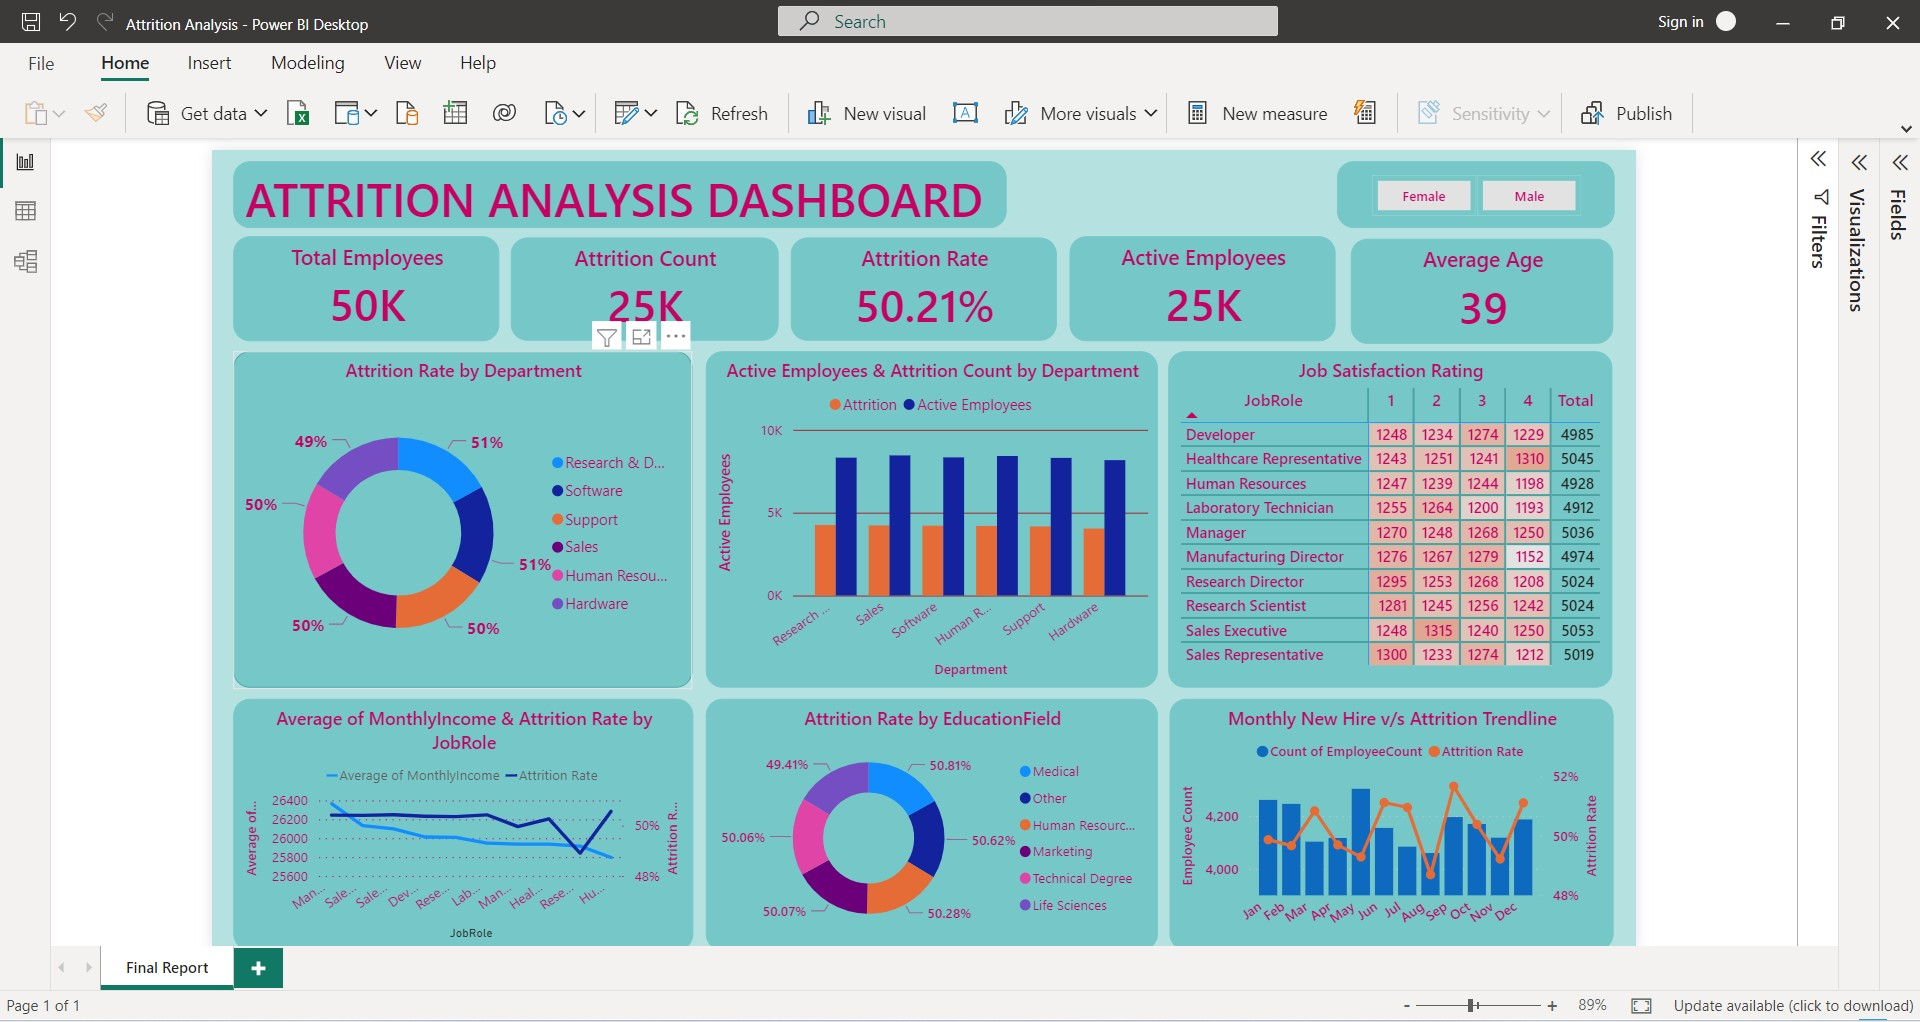

The dashboard page shown, as its layout file describes it:
{"tool":"powerbi","page":{"name":"Final Report","canvas":[1280,720],"ordinal":0},"visuals":[{"type":"card","title":"Total Employees","fields":{"Values":["Sum(HR_1.EmployeeCount)"]},"box":[18.6,77.9,239.5,94.2],"z":0},{"type":"card","title":"Attrition Count","fields":{"Values":["Sum(HR_1.Count of Attrition)"]},"box":[268.6,79.1,240.7,93],"z":1000},{"type":"card","title":"Attrition Rate","fields":{"Values":["HR_1.Attrition Rate"]},"box":[519.8,79.1,239.5,93],"z":2000},{"type":"card","title":"Active Employees","fields":{"Values":["HR_1.Active Employees"]},"box":[770.9,77.9,239.5,94.2],"z":3000},{"type":"card","title":"Average Age","fields":{"Values":["Avg(HR_1.Age)"]},"box":[1023.9,79.6,236.4,94.1],"z":4000},{"type":"donutChart","fields":{"Category":["HR_1.Department"],"Y":["HR_1.Attrition Rate"]},"box":[18.8,181.2,412.5,302.5],"z":5000},{"type":"clusteredColumnChart","title":"Active Employees & Attrition Count by Department","fields":{"Y":["Sum(HR_1.Count of Attrition)","CountNonNull(HR_1.EmployeeCount)"],"Category":["HR_1.Department"]},"box":[443.8,180.9,406.4,302.7],"z":6000},{"type":"pivotTable","title":"Job Satisfaction Rating","fields":{"Rows":["HR_1.JobRole"],"Columns":["HR_1.JobSatisfaction"],"Values":["CountNonNull(HR_1.EmployeeCount)"]},"box":[861.3,181.4,398.4,302.7],"z":7000},{"type":"lineChart","title":"Average of MonthlyIncome & Attrition Rate by JobRole","fields":{"Category":["HR_1.JobRole"],"Y2":["HR_1.Attrition Rate"],"Y":["Avg(HR_2.MonthlyIncome)"]},"box":[18.8,493.8,413.8,226.2],"z":8000},{"type":"donutChart","fields":{"Category":["HR_1.EducationField"],"Y":["HR_1.Attrition Rate"]},"box":[443.8,493.3,406.4,226.7],"z":9000},{"type":"lineClusteredColumnComboChart","title":"Monthly New Hire v/s Attrition Trendline","fields":{"Y":["CountNonNull(HR_1.EmployeeCount)"],"Y2":["HR_1.Attrition Rate"],"Category":["HR_2.Month Name"]},"box":[861.1,493.3,399.2,226.7],"z":10000},{"type":"textbox","title":"ATTRITION ANALYSIS DASHBOARD","box":[18.9,10,695.5,60.1],"z":11000},{"type":"slicer","fields":{"Values":["HR_1.Gender"]},"box":[1011.6,10,249.3,60.1],"z":12000}]}

Visuals, with their boxes on the page's 1280x720 design canvas (x1, y1, x2, y2). These are canvas units, not pixel positions in the 1920x1022 screenshot, which may show the page scaled, cropped or inside an application window:
"Total Employees" card: (left=19, top=78, right=258, bottom=172)
"Attrition Count" card: (left=269, top=79, right=509, bottom=172)
"Attrition Rate" card: (left=520, top=79, right=759, bottom=172)
"Active Employees" card: (left=771, top=78, right=1010, bottom=172)
"Average Age" card: (left=1024, top=80, right=1260, bottom=174)
donutChart - HR_1.Department x HR_1.Attrition Rate: (left=19, top=181, right=431, bottom=484)
"Active Employees & Attrition Count by Department" clusteredColumnChart: (left=444, top=181, right=850, bottom=484)
"Job Satisfaction Rating" pivotTable: (left=861, top=181, right=1260, bottom=484)
"Average of MonthlyIncome & Attrition Rate by JobRole" lineChart: (left=19, top=494, right=433, bottom=720)
donutChart - HR_1.EducationField x HR_1.Attrition Rate: (left=444, top=493, right=850, bottom=720)
"Monthly New Hire v/s Attrition Trendline" lineClusteredColumnComboChart: (left=861, top=493, right=1260, bottom=720)
"ATTRITION ANALYSIS DASHBOARD" textbox: (left=19, top=10, right=714, bottom=70)
slicer - HR_1.Gender: (left=1012, top=10, right=1261, bottom=70)
